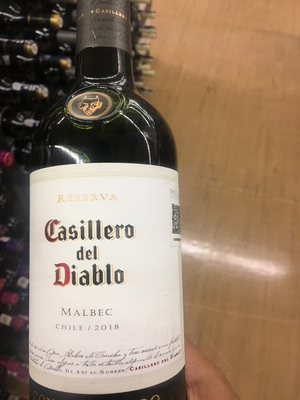casillero del diablo malbec: (25, 21, 193, 400)
